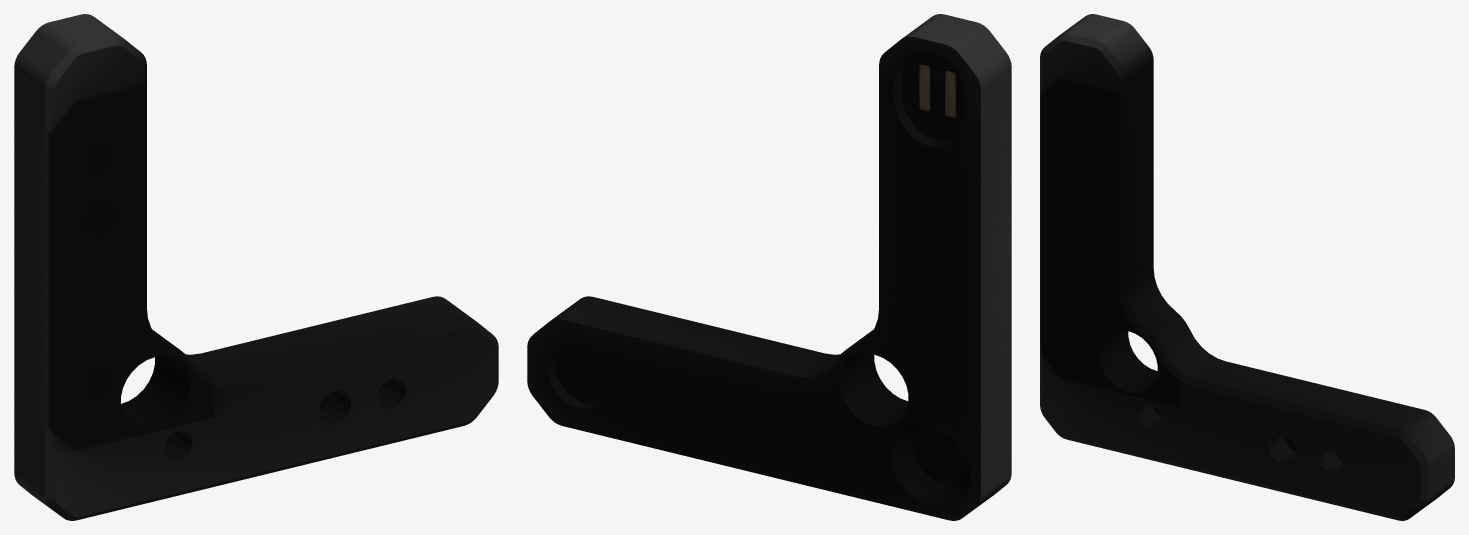
The model's file is CP08_Mount.obj.
3 views of the same model, side by side, from view 1: azimuth 30°, elevation 25°; view 2: azimuth 150°, elevation 25°; view 3: azimuth 330°, elevation 25° (orthographic). The views are drawn at different scales.
Parts seen in each view (by area): view 1: polySurface975; view 2: polySurface975; view 3: polySurface975.
Part boxes in pixels (x1,y1,x2,y2): polySurface975: (14,14,498,520); polySurface975: (527,14,1011,520); polySurface975: (1040,14,1454,520).
Size of the model in its own units: 48.64 by 48.64 by 6.36.
